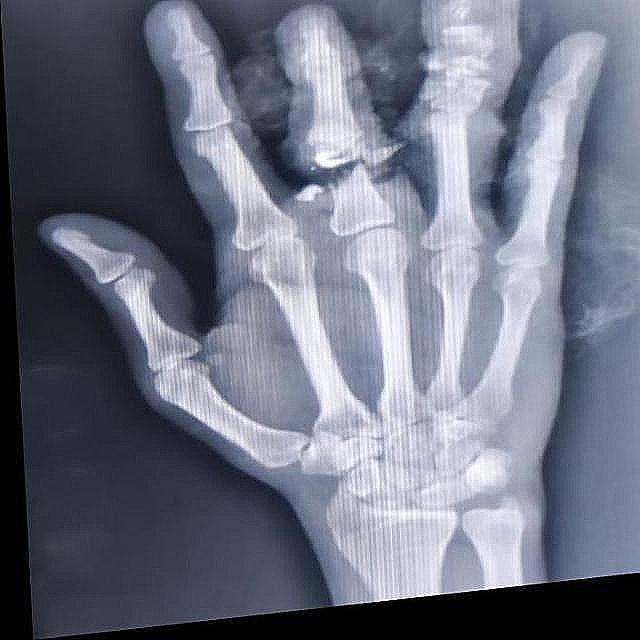bone: (404, 55, 504, 135), (304, 138, 379, 216)
